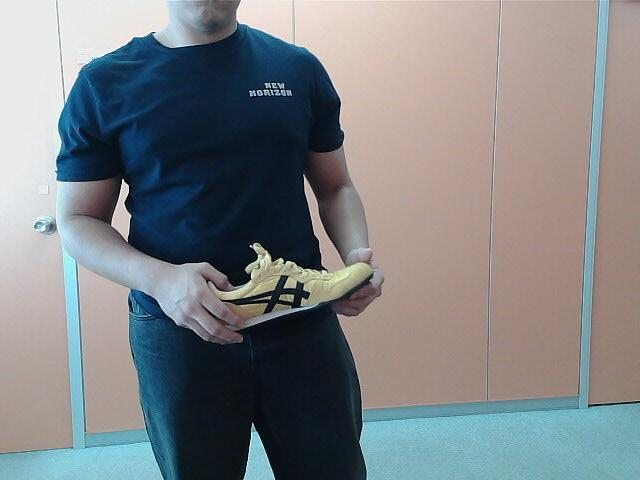Shoes: (185, 247, 382, 331)
